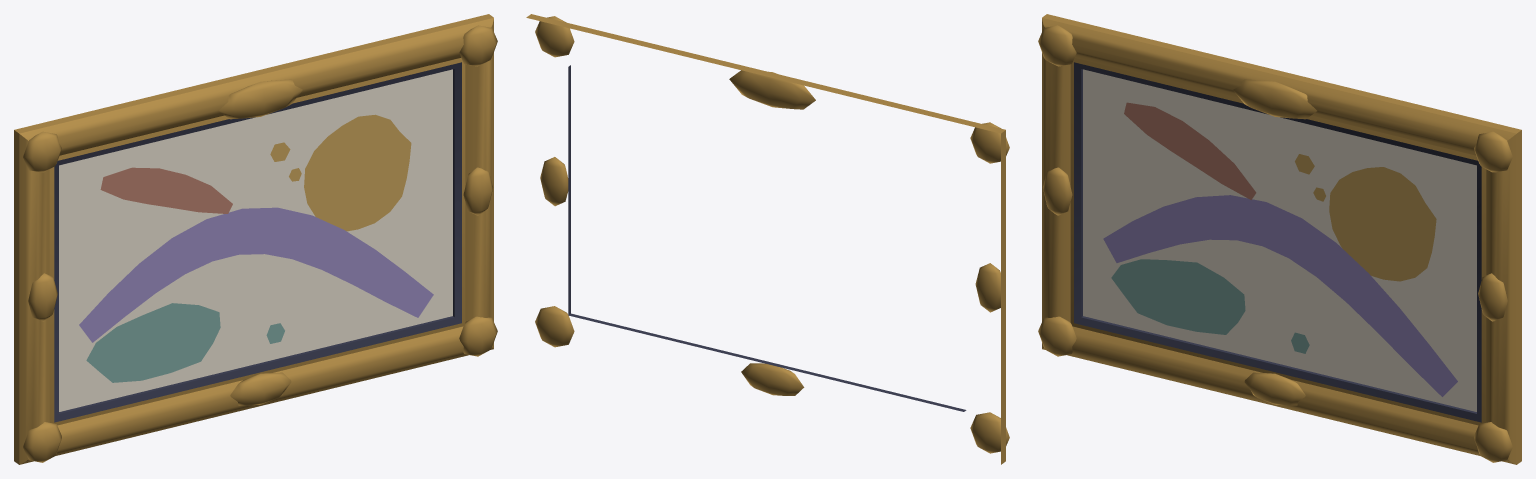
Rendered from prop_frame.glb.
3 renders of one model, left to right at view 1: azimuth 30°, elevation 25°; view 2: azimuth 150°, elevation 25°; view 3: azimuth 330°, elevation 25°, orthographic.
Parts seen in each view (by area): view 1: PictureFrameMesh; view 2: PictureFrameMesh; view 3: PictureFrameMesh.
Part boxes in pixels (<box>): PictureFrameMesh: <box>14,14,497,464</box>; PictureFrameMesh: <box>526,14,1009,464</box>; PictureFrameMesh: <box>1038,14,1521,464</box>.
Bounding box in the file's own units: 2.4 × 1.6 × 0.12.
